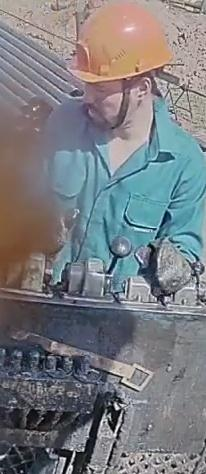gloves: (135, 234, 197, 297)
helmet: (66, 0, 173, 91)
vest: (42, 95, 205, 294)
